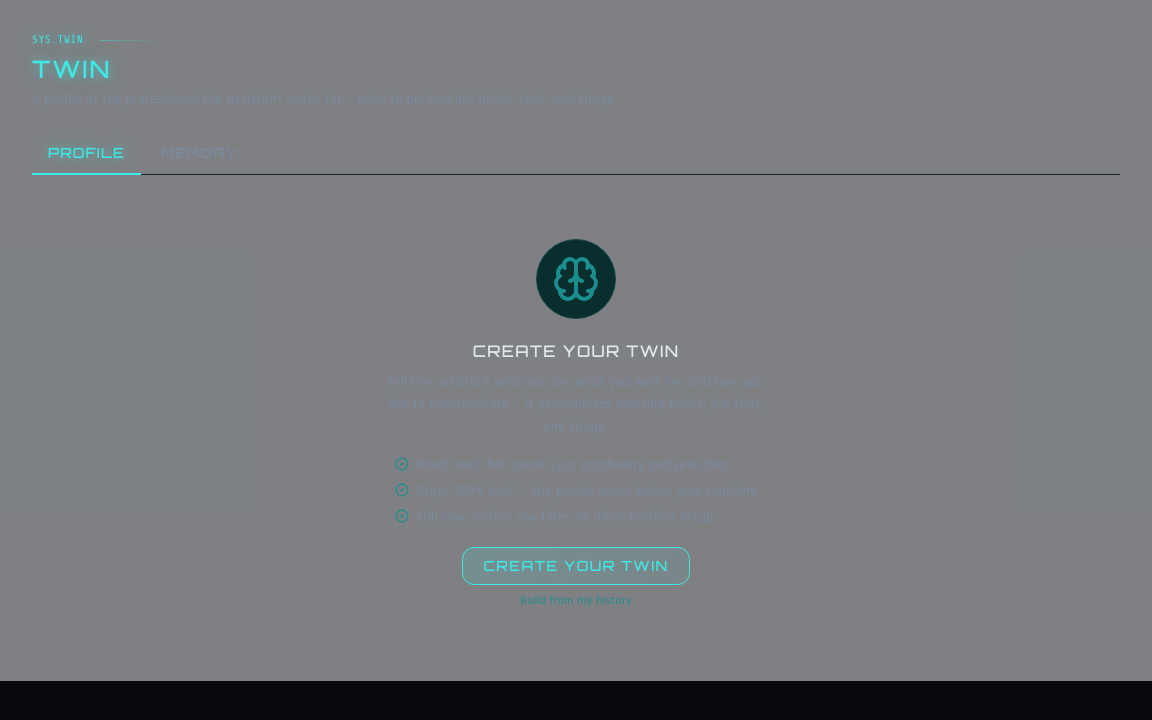
Test: TwinPage — empty state + creation wizard › the CTA opens the real creation wizard, and closing it returns to the empty state
Click the button "Create your twin". click: (576, 566)
box: top-left (462, 547), bottom-right (690, 585)
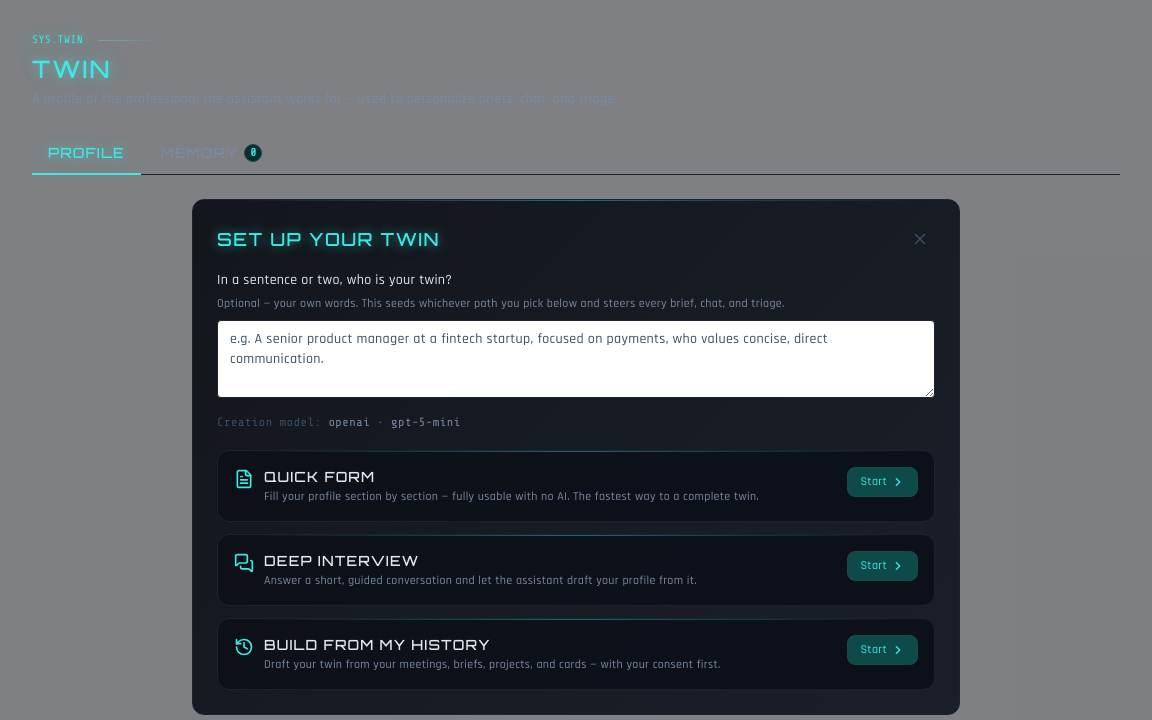
Expected: the heading "Set up your twin" is shown, top-left (217, 224), bottom-right (440, 252)
Click the button with aria-label "start quick form". click: (883, 482)
box: top-left (847, 466), bottom-right (918, 496)
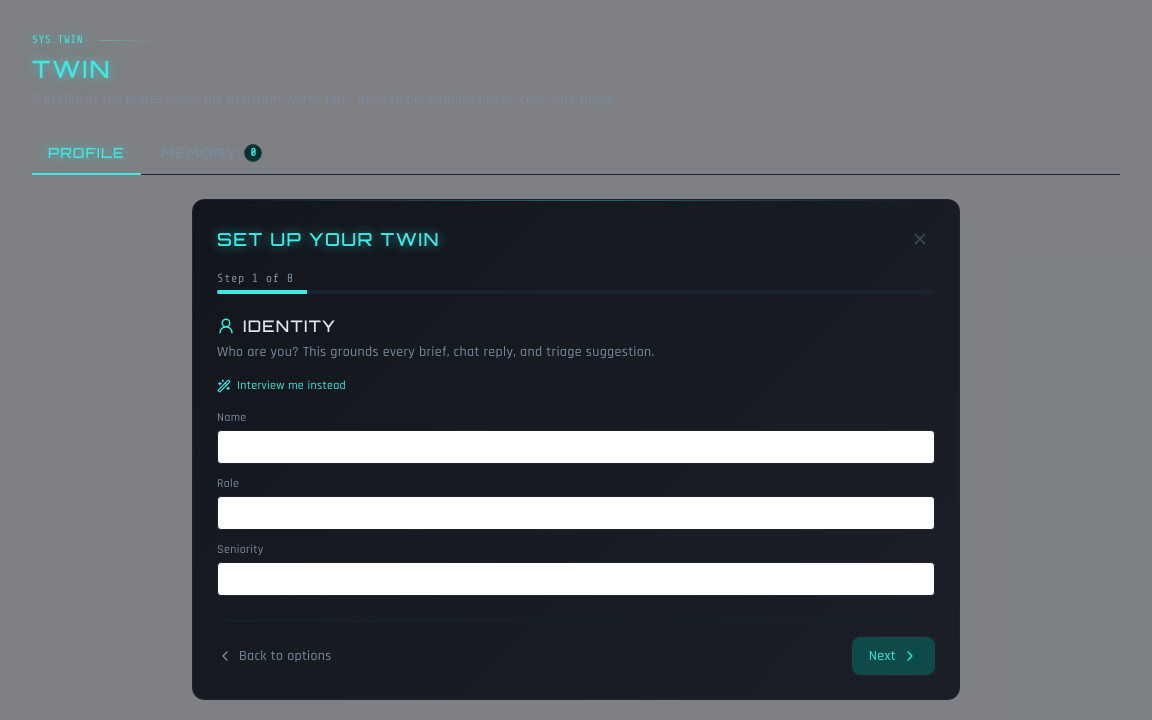
Expected: the button "edit" is not shown
Expected: the text "Step 1 of 8" is shown, top-left (217, 270), bottom-right (294, 284)
Click the button named "close wizard". click: (920, 238)
box: top-left (905, 224), bottom-right (935, 254)
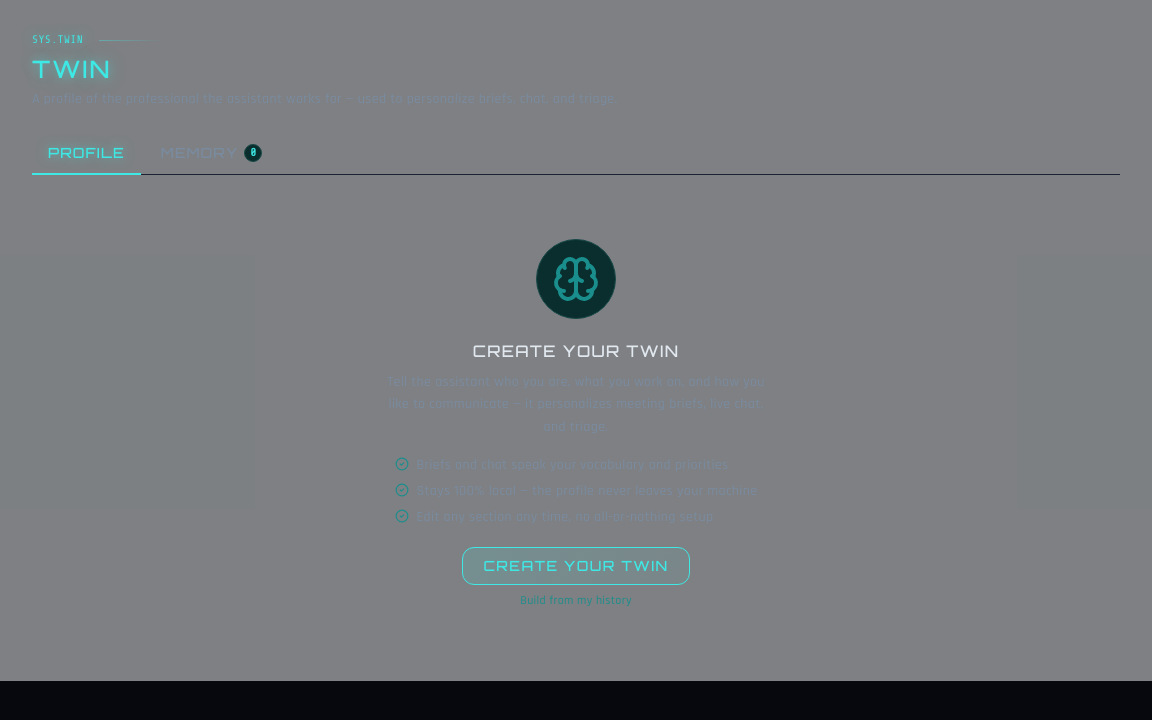
Expected: the button "Create your twin" is shown, top-left (462, 547), bottom-right (690, 585)
